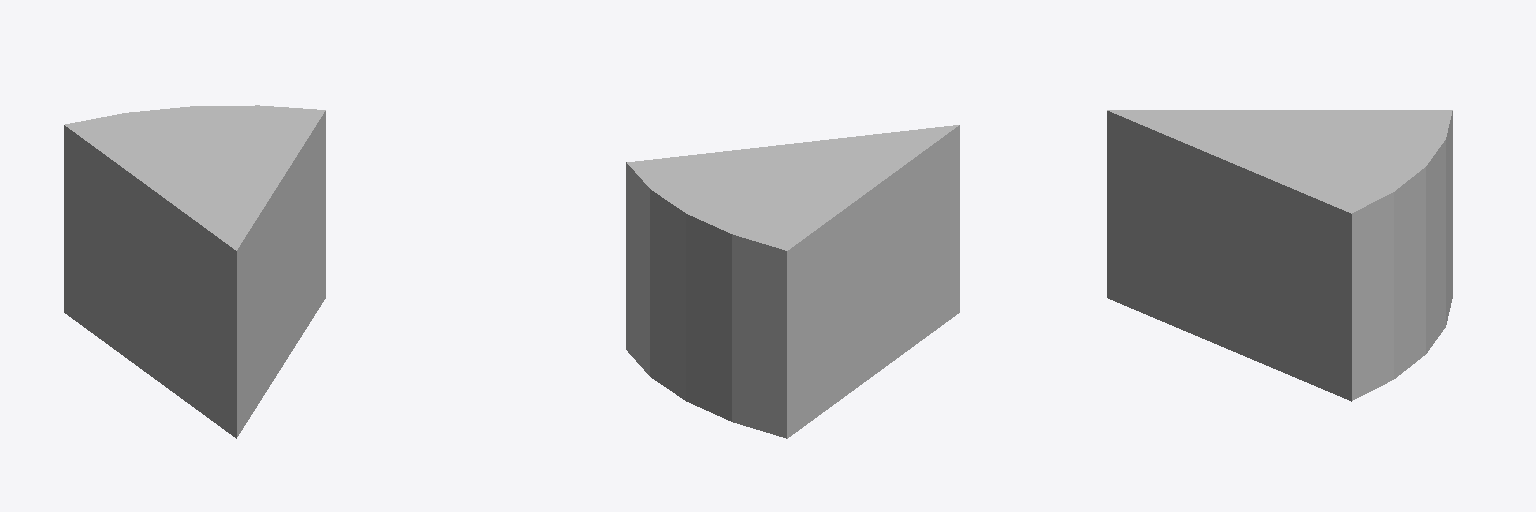
File: slice4.obj
3 renders of one model, left to right at view 1: azimuth 30°, elevation 25°; view 2: azimuth 150°, elevation 25°; view 3: azimuth 270°, elevation 25°, orthographic.
Parts seen in each view (by area): view 1: Cube.007_Cube.024; view 2: Cube.007_Cube.024; view 3: Cube.007_Cube.024.
Part boxes in pixels (x1,y1,x2,y2): Cube.007_Cube.024: (64,105,325,438); Cube.007_Cube.024: (626,125,959,438); Cube.007_Cube.024: (1107,110,1452,401).
Bounding box in the file's own units: 1.41 × 1.2 × 2.